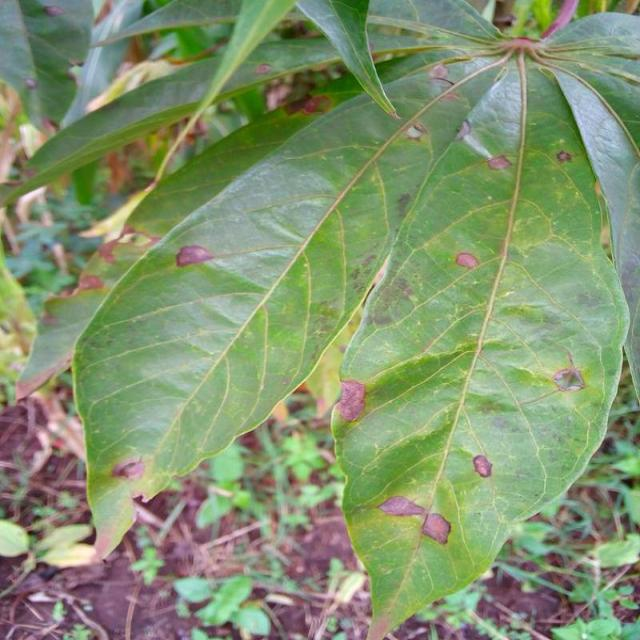cassava leaf: (16, 1, 638, 637), (330, 48, 632, 638)
